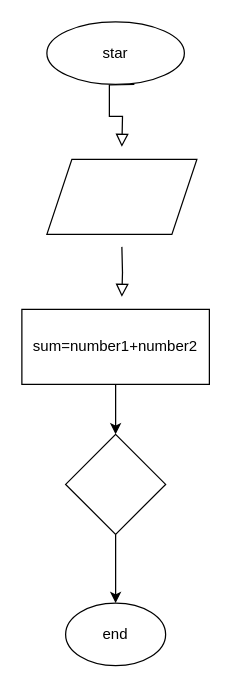
This 231x688 diagram has some shape labels left out. Each missing label, with the centre of its shape:
"input number1 number2" goes at pixel 121 196.
"sum" goes at pixel 115 483.
